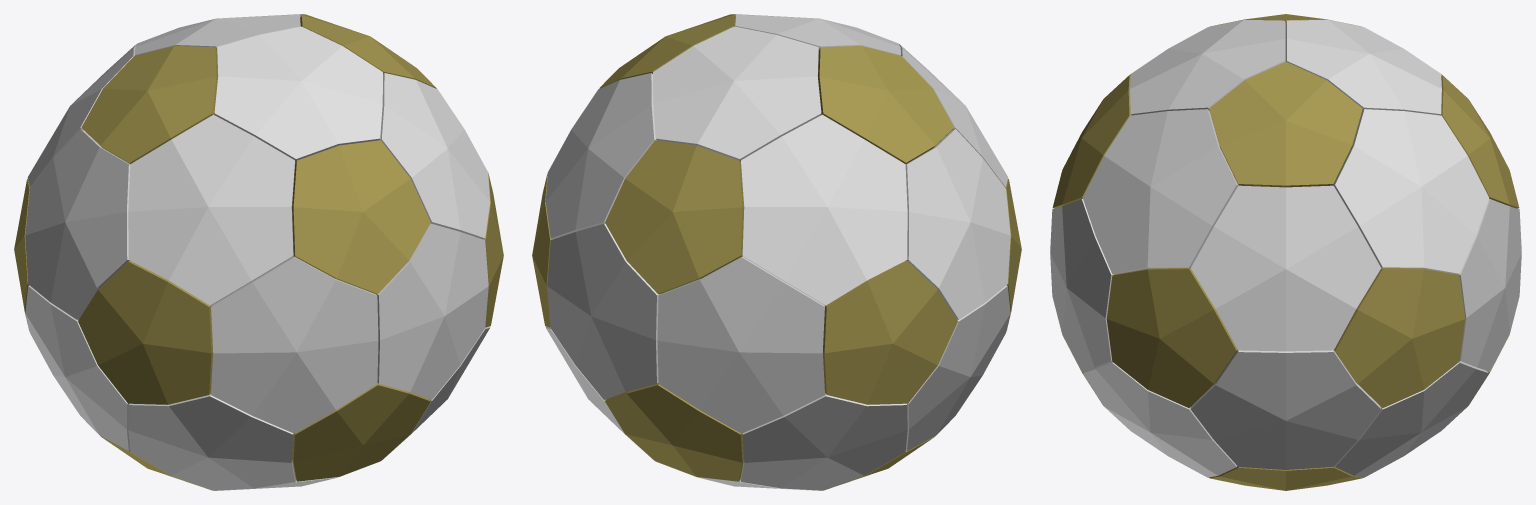
File: Ballon.glb
The picture shows the model from 3 angles, left to right: view 1: azimuth 30°, elevation 25°; view 2: azimuth 150°, elevation 25°; view 3: azimuth 270°, elevation 25°; orthographic projection. The views are drawn at different scales.
Parts seen in each view (by area): view 1: Solid.001; view 2: Solid.001; view 3: Solid.001.
Part boxes in pixels (bbox=[...]): Solid.001: bbox=[14, 14, 503, 490]; Solid.001: bbox=[532, 14, 1021, 490]; Solid.001: bbox=[1050, 14, 1521, 490].
Bounding box in the file's own units: 1.55 × 1.55 × 1.55.
